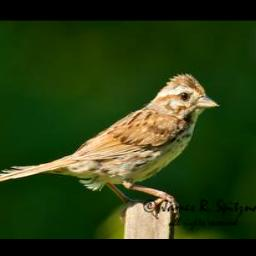Sparrow: (0, 72, 216, 224)
